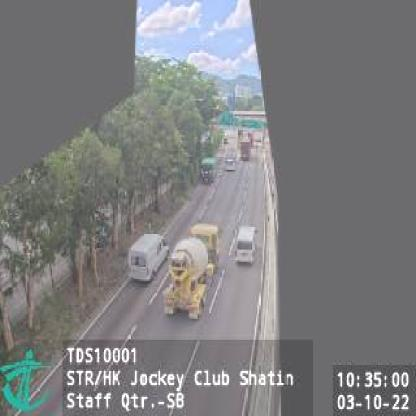Car: (127, 232, 168, 279), (235, 222, 255, 262), (224, 156, 234, 168)
Minibus: (200, 159, 215, 182)
Truck: (164, 222, 221, 315), (239, 138, 250, 160)
